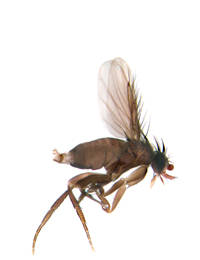phorid fly: (18, 44, 189, 259)
